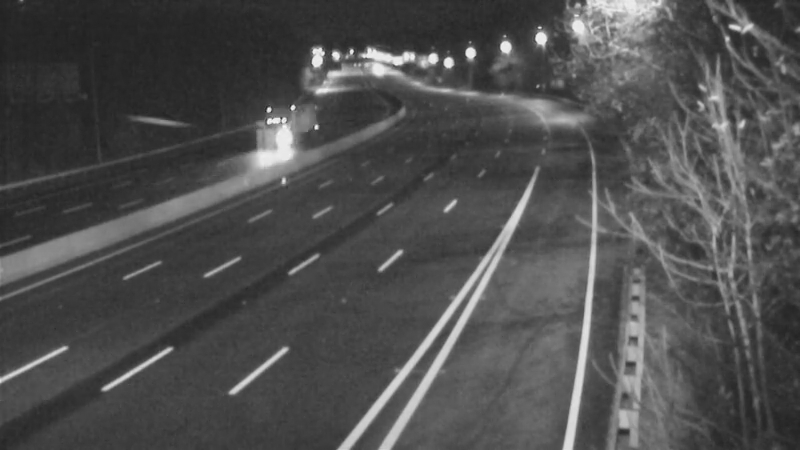vehicle: (255, 115, 305, 165)
